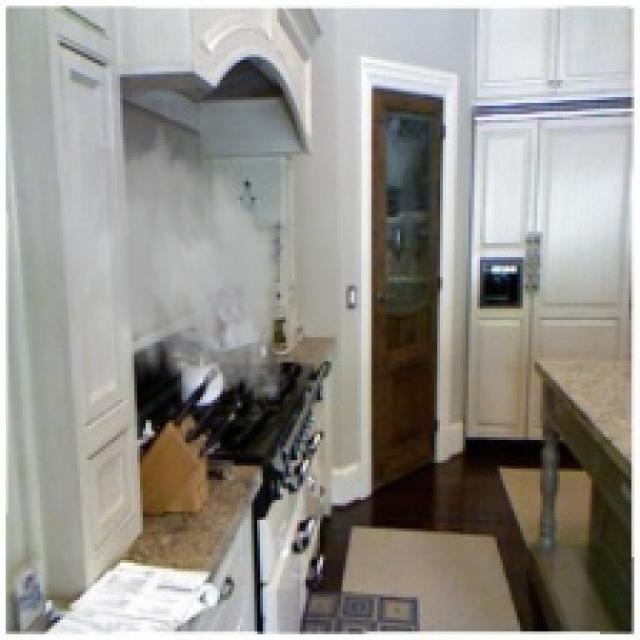Smoke: (66, 132, 300, 412)
